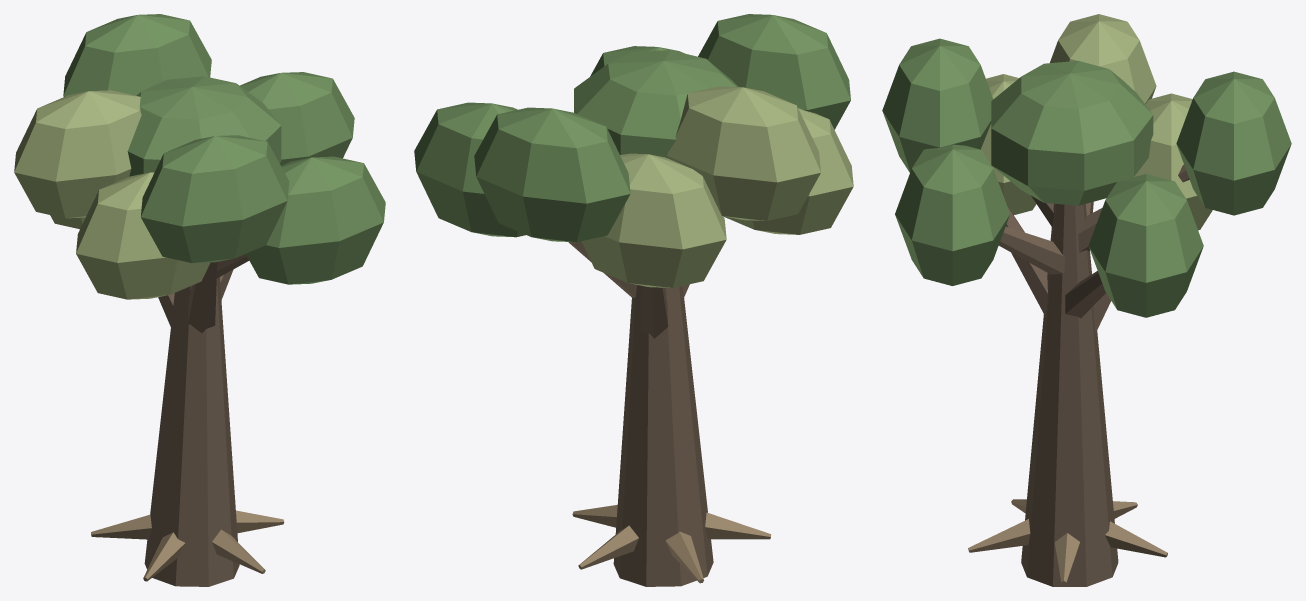
The model's file is root_tree.glb.
3 views of the same model, side by side, from view 1: azimuth 30°, elevation 25°; view 2: azimuth 150°, elevation 25°; view 3: azimuth 270°, elevation 25° (orthographic). The views are drawn at different scales.
Parts seen in each view (by area): view 1: root_tree; view 2: root_tree; view 3: root_tree.
Part boxes in pixels (box(x1,y1,x2,y2)): root_tree: box(14, 14, 385, 586); root_tree: box(414, 14, 853, 586); root_tree: box(882, 14, 1291, 586).
Bounding box in the file's own units: 0.7832 × 1.01 × 0.7454.
